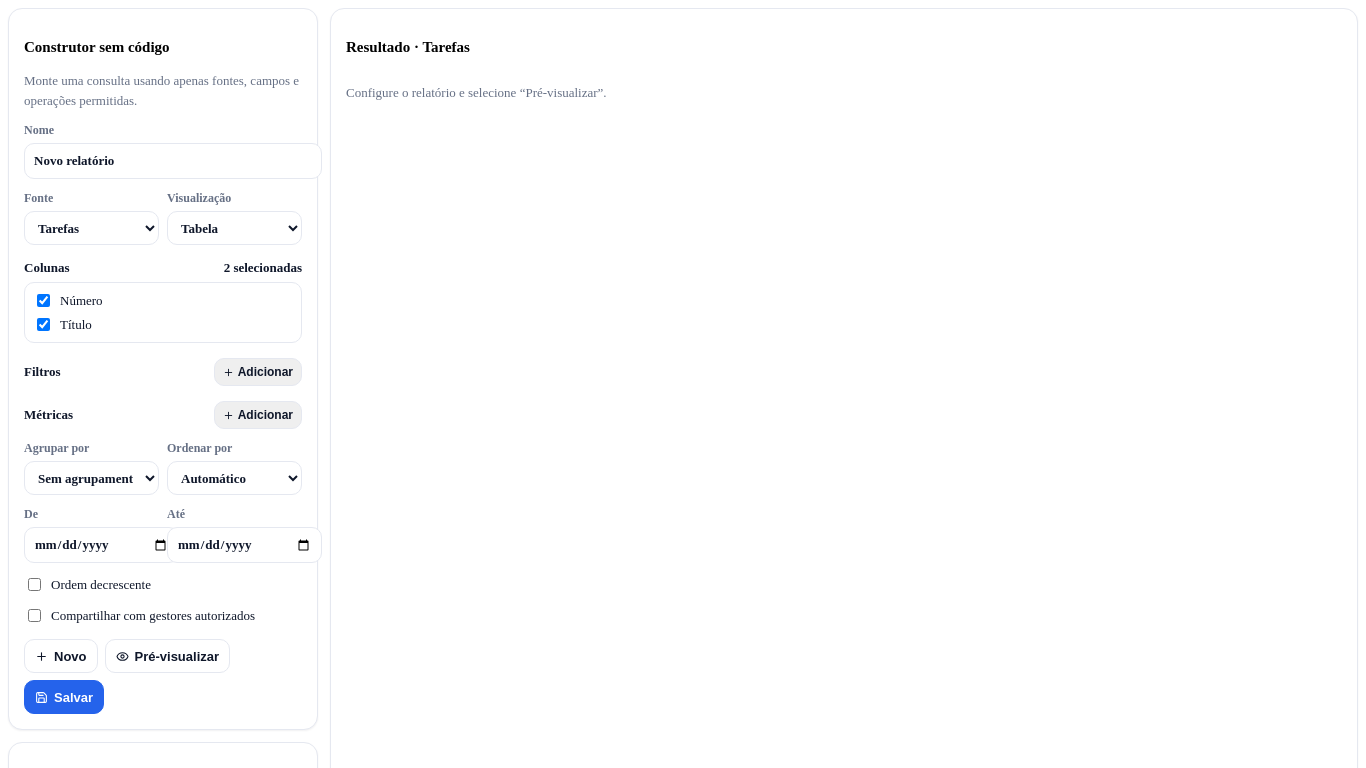
Scenario: editor de filtros e métricas do relatório › agrupa a lixeira com a métrica correspondente
Step 1. Click the button "Adicionar" next to "Métricas" → [258, 415], box [214,401,302,429]
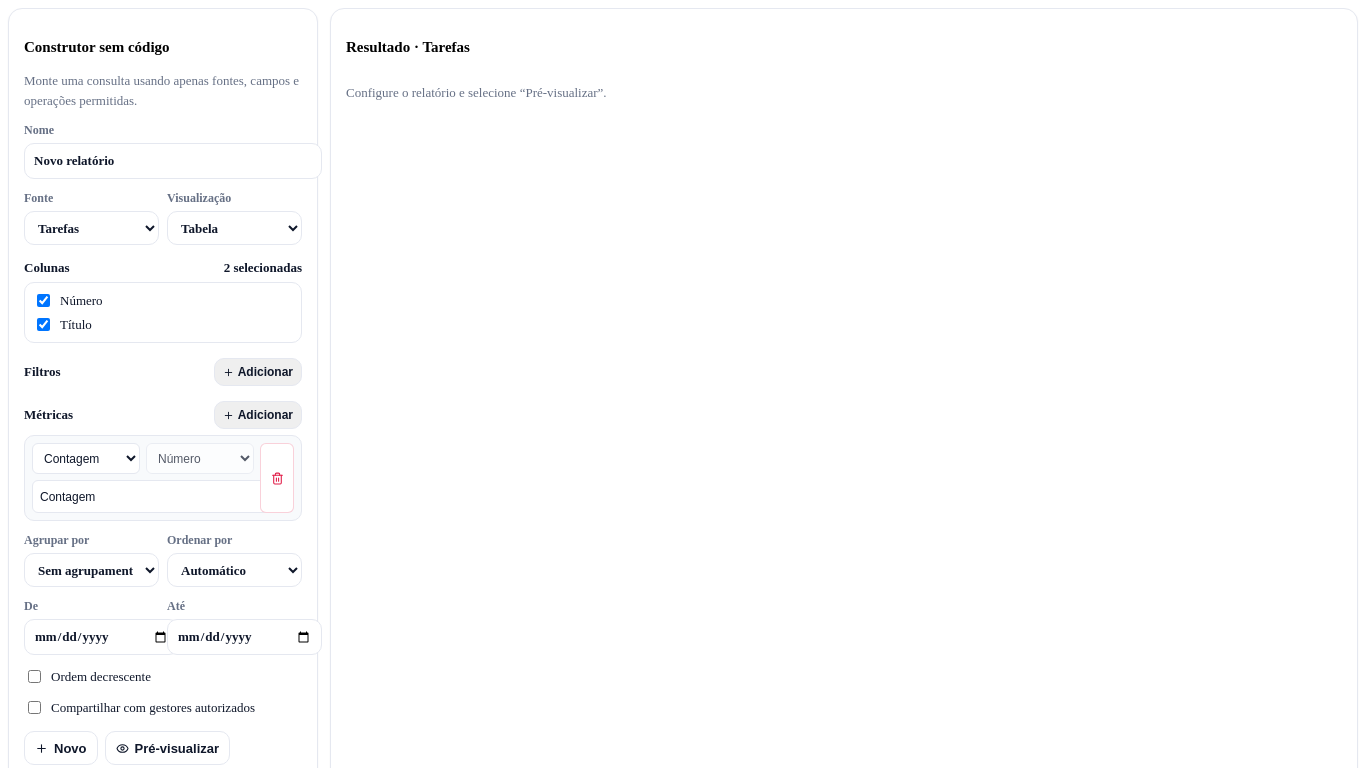
Now the button named "Remover métrica" is shown, box [260,443,294,513]
